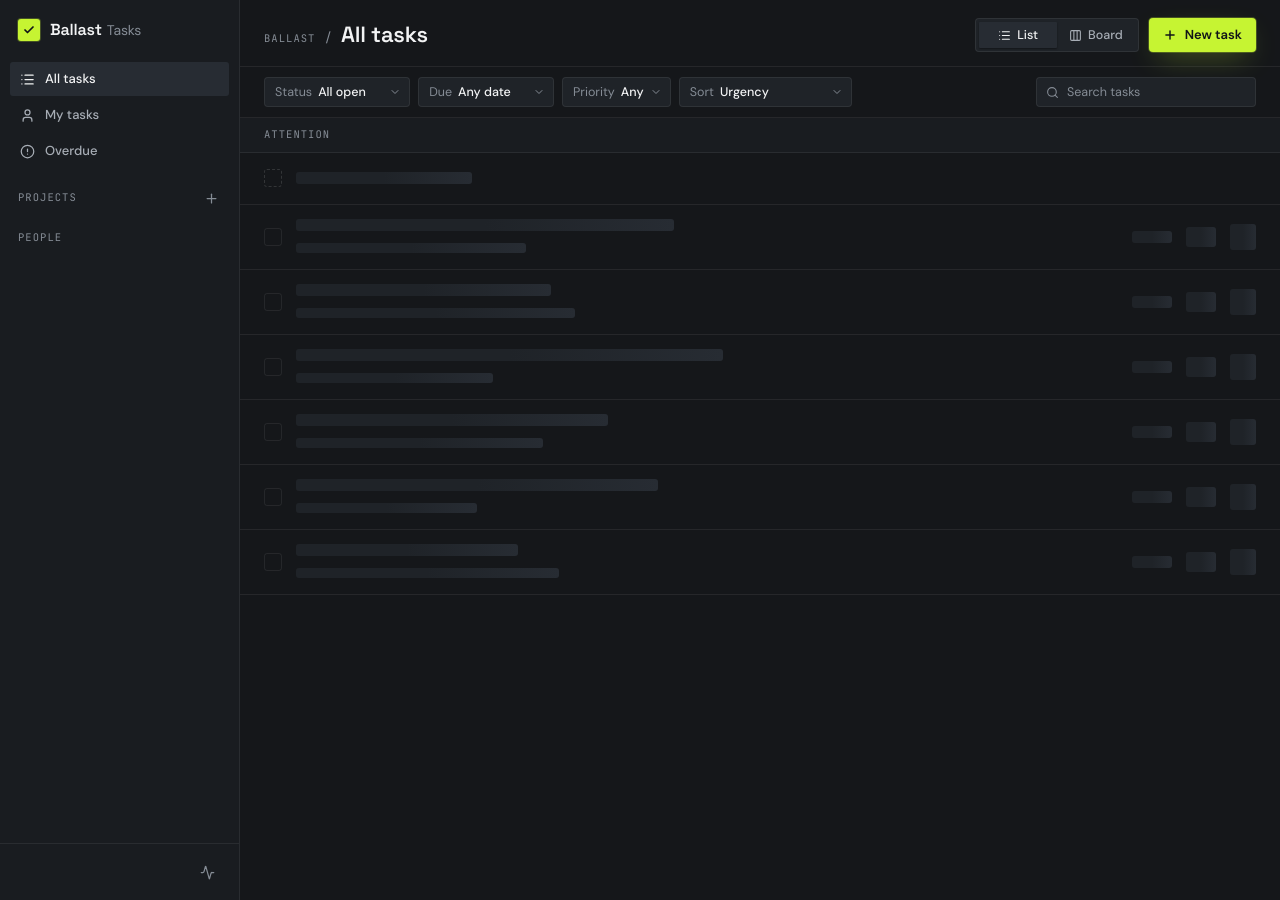
Test: card › opens the task when clicked or activated from the keyboard, and marks it as the current one
Click the radio button "Board": click(1096, 35) [1069,27,1123,43]
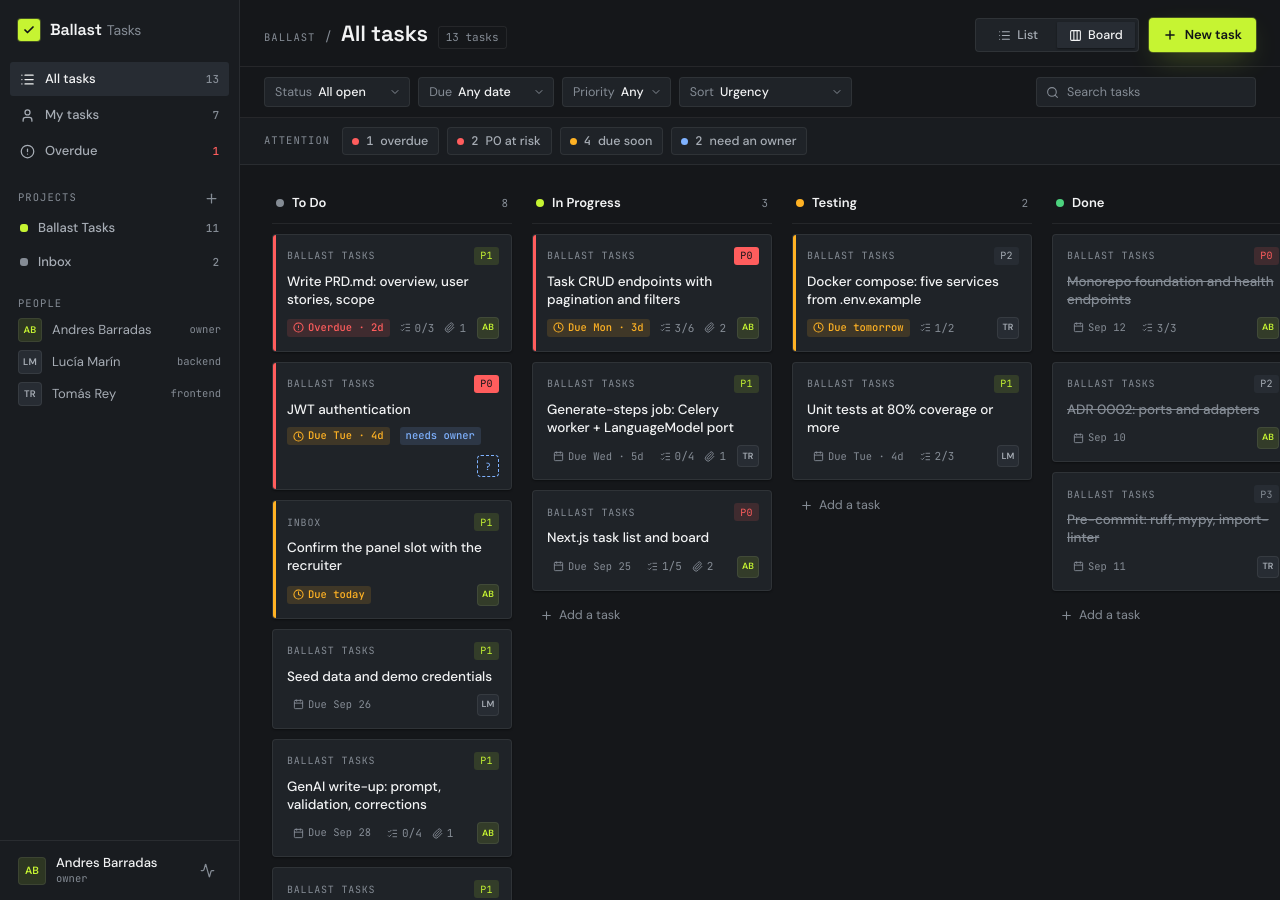
Click the element "Write PRD.md: overview, user stories, scope": click(392, 293) [272,234,512,352]
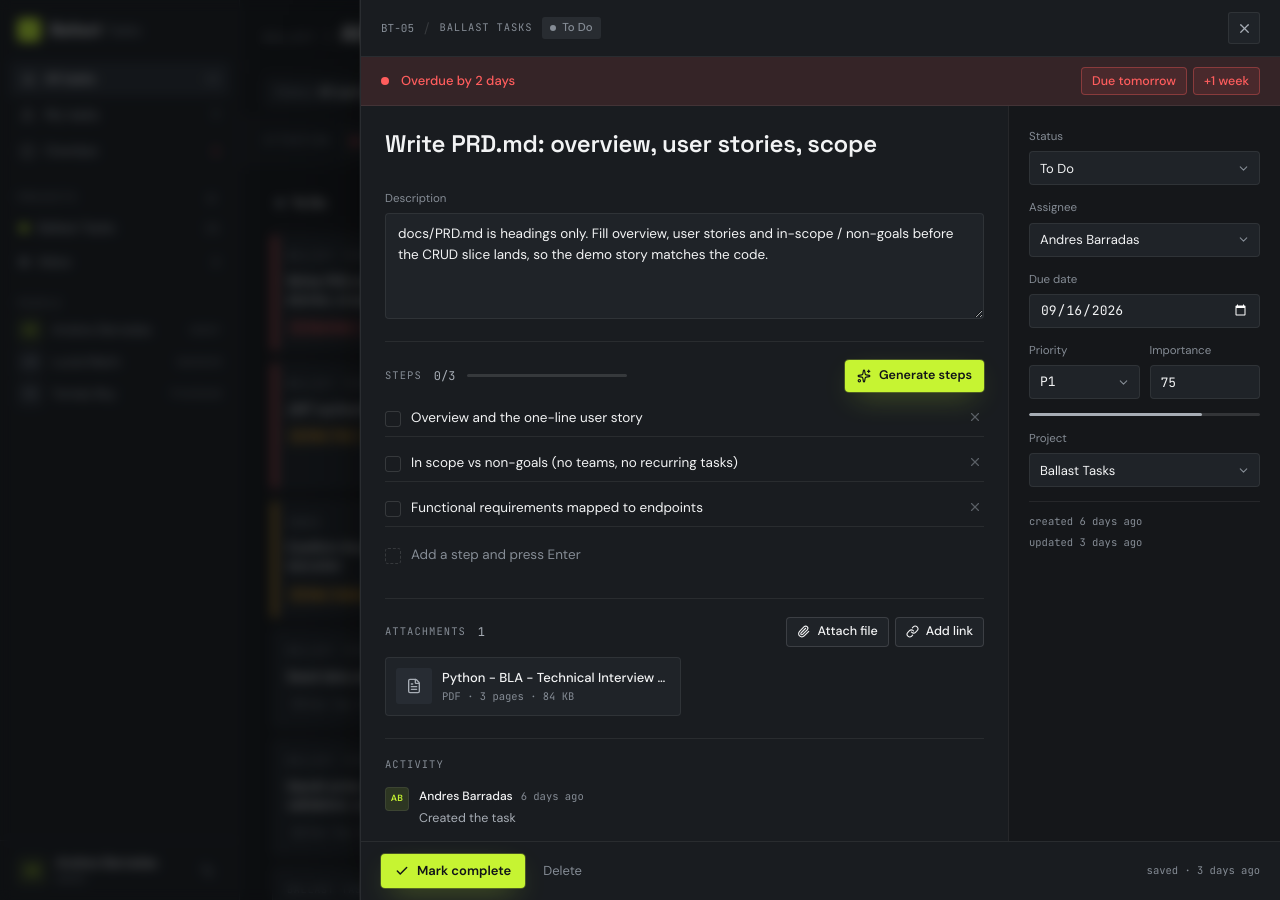
Result: the dialog named "Write PRD.md: overview, user stories, scope" is shown
Press Escape
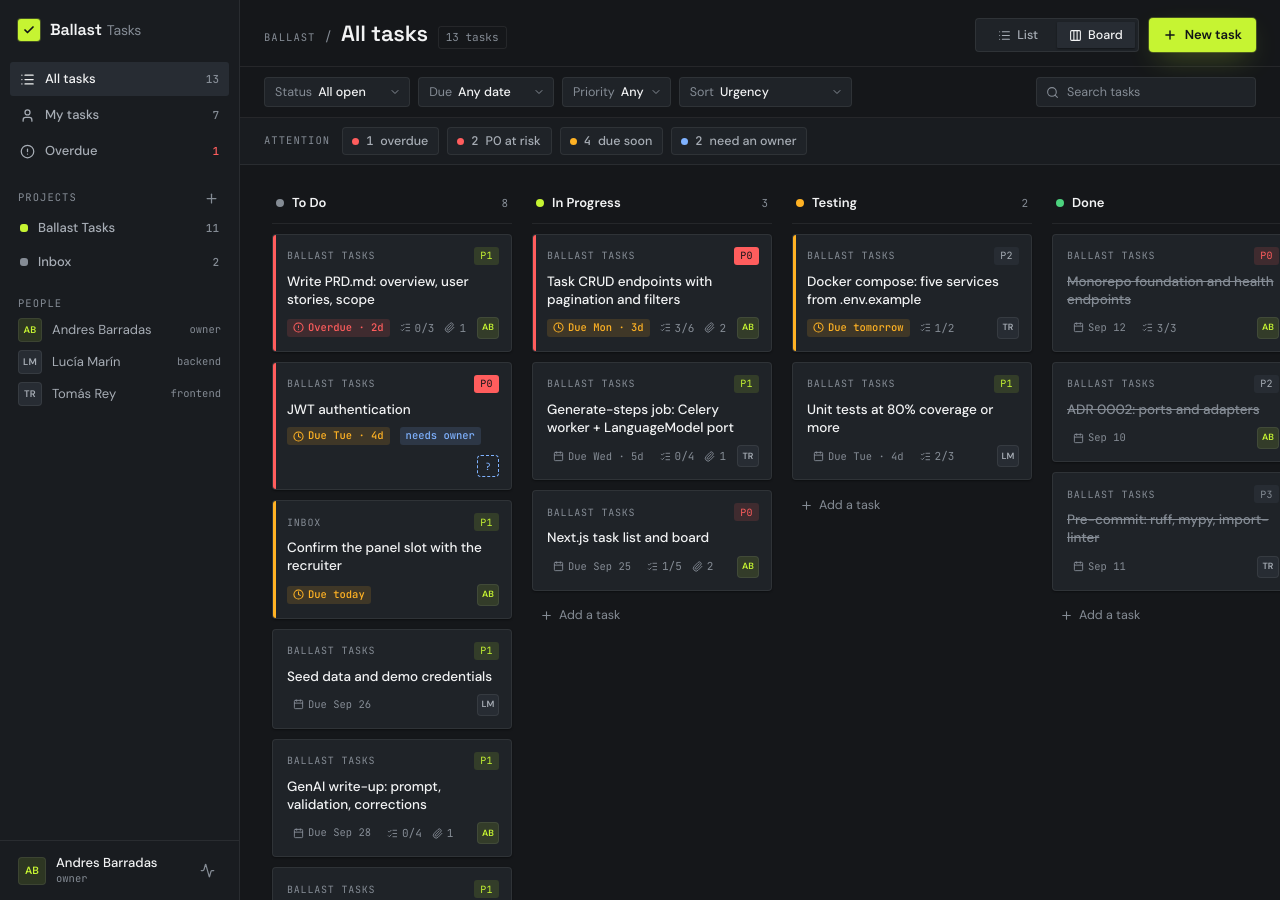
Result: the dialog is gone
Click the button "JWT authentication": click(393, 410) [287,401,499,419]
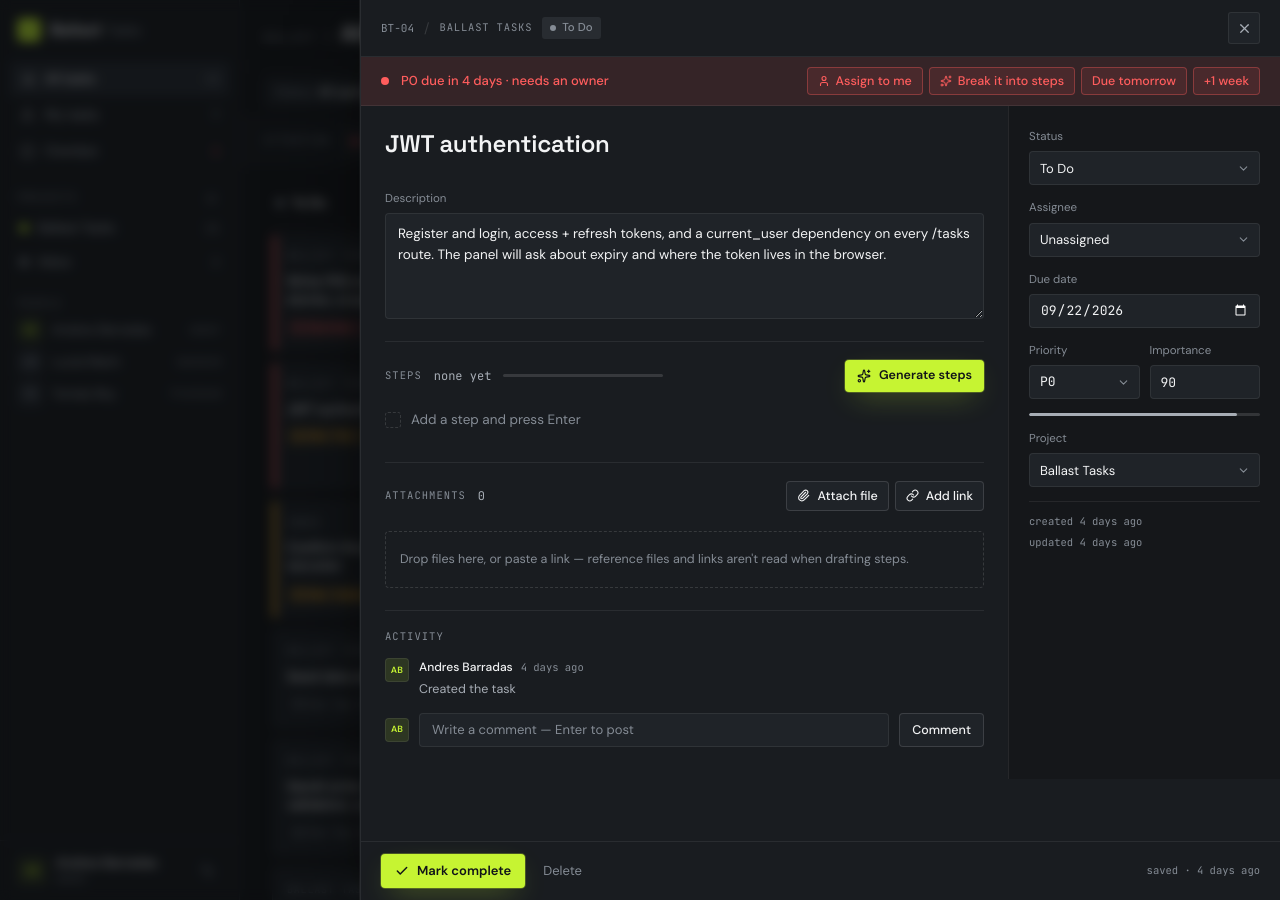
Result: the dialog named "JWT authentication" is shown
